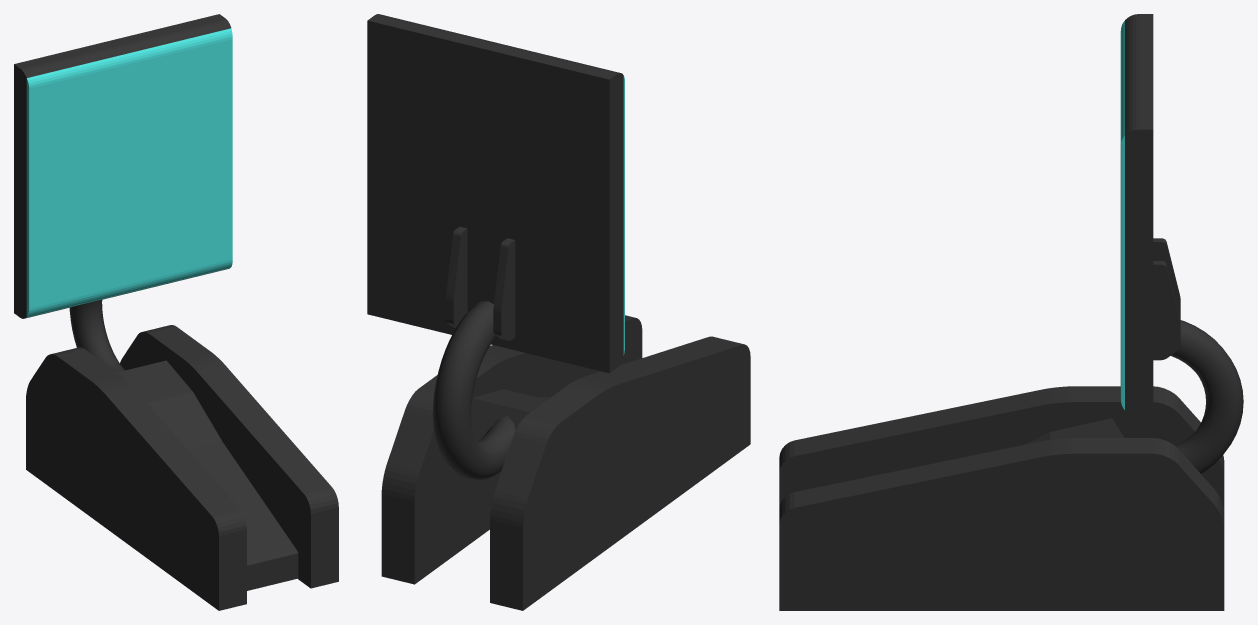
The model's file is Mirror.fbx.
3 views of the same model, side by side, from view 1: azimuth 30°, elevation 25°; view 2: azimuth 150°, elevation 25°; view 3: azimuth 270°, elevation 25° (orthographic). The views are drawn at different scales.
Parts seen in each view (by area): view 1: Cube.002; view 2: Cube.002; view 3: Cube.002.
Boxes of the visible parts, x1,y1,x2,y2 form: Cube.002: (14, 14, 338, 610); Cube.002: (367, 14, 750, 610); Cube.002: (779, 14, 1243, 610).
Bounding box in the file's own units: 70.03 × 143 × 119.
